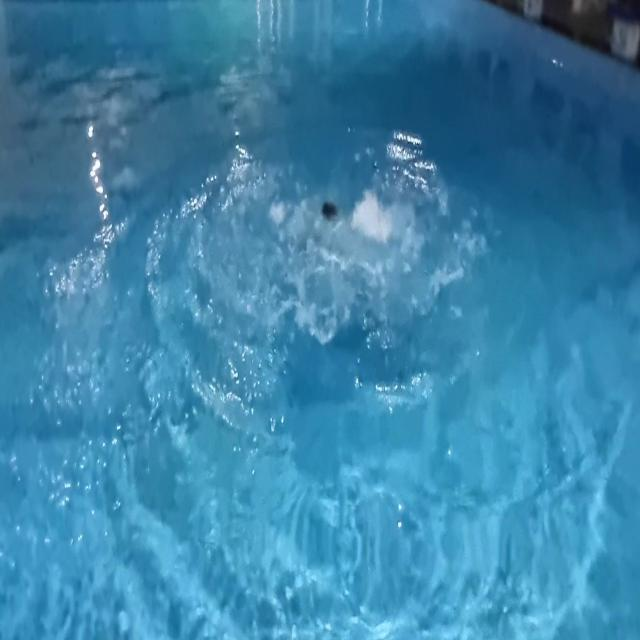Drowning: (264, 148, 432, 322)
